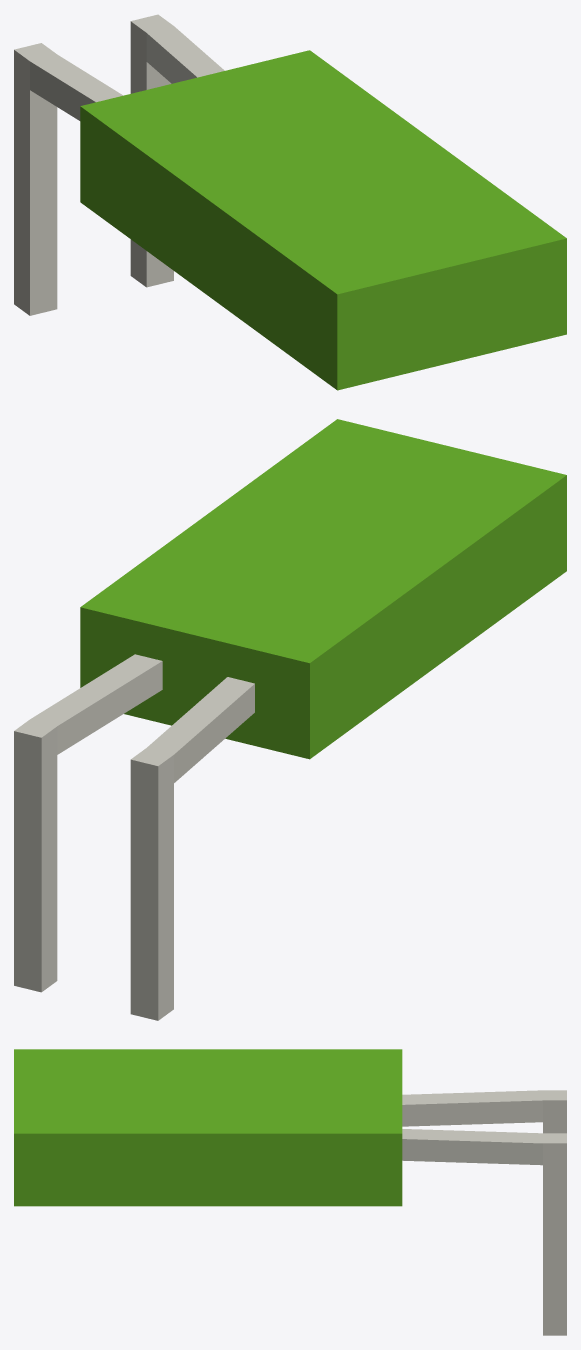
File: kc-led_rectangular_w5.0mm_h2.0mm_horizontal_o3.81mm_z3.0mm.glb
The picture shows the model from 3 angles, top to bottom: view 1: azimuth 30°, elevation 25°; view 2: azimuth 150°, elevation 25°; view 3: azimuth 270°, elevation 25°; orthographic projection. The views are drawn at different scales.
Parts seen in each view (by area): view 1: 0.16666666666666666_0.4166666666666667_0_0, 0.6666666666666666_0.6666666666666666_0.5833333333333334_0.8; view 2: 0.16666666666666666_0.4166666666666667_0_0, 0.6666666666666666_0.6666666666666666_0.5833333333333334_0.8; view 3: 0.16666666666666666_0.4166666666666667_0_0, 0.6666666666666666_0.6666666666666666_0.5833333333333334_0.8.
Boxes of the visible parts, bbox=[...] form: 0.16666666666666666_0.4166666666666667_0_0: bbox=[80, 50, 566, 390]; 0.6666666666666666_0.6666666666666666_0.5833333333333334_0.8: bbox=[14, 14, 224, 315]; 0.16666666666666666_0.4166666666666667_0_0: bbox=[80, 419, 566, 759]; 0.6666666666666666_0.6666666666666666_0.5833333333333334_0.8: bbox=[14, 654, 254, 1020]; 0.16666666666666666_0.4166666666666667_0_0: bbox=[14, 1049, 402, 1206]; 0.6666666666666666_0.6666666666666666_0.5833333333333334_0.8: bbox=[402, 1090, 566, 1335].
Bounding box in the file's own units: 0.5 × 0.6 × 1.38.
